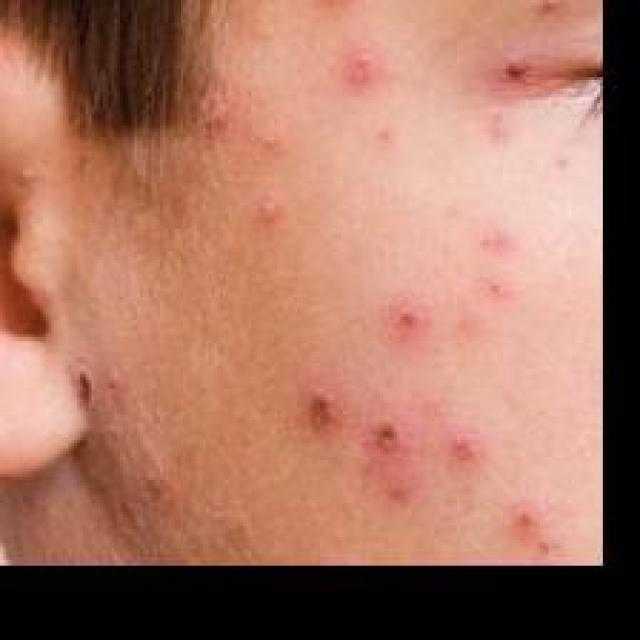others: (0, 5, 597, 565)
